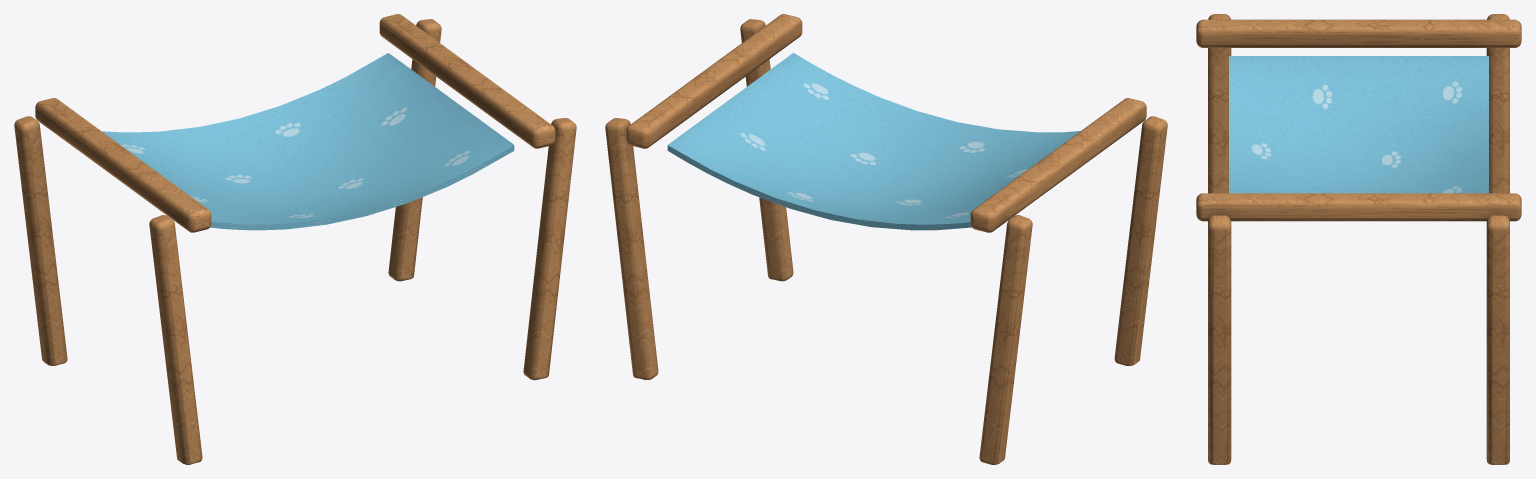
Rendered from hammock_stand.glb.
3 renders of one model, left to right at view 1: azimuth 30°, elevation 25°; view 2: azimuth 150°, elevation 25°; view 3: azimuth 270°, elevation 25°, orthographic. The views are drawn at different scales.
Parts seen in each view (by area): view 1: hammock_stand; view 2: hammock_stand; view 3: hammock_stand.
Boxes of the visible parts, left/top/right/bottom form: hammock_stand: left=14, top=14, right=576, bottom=464; hammock_stand: left=605, top=14, right=1167, bottom=464; hammock_stand: left=1196, top=14, right=1521, bottom=464.
Bounding box in the file's own units: 1.08 × 0.625 × 0.7.
1 material, 1 textured.
